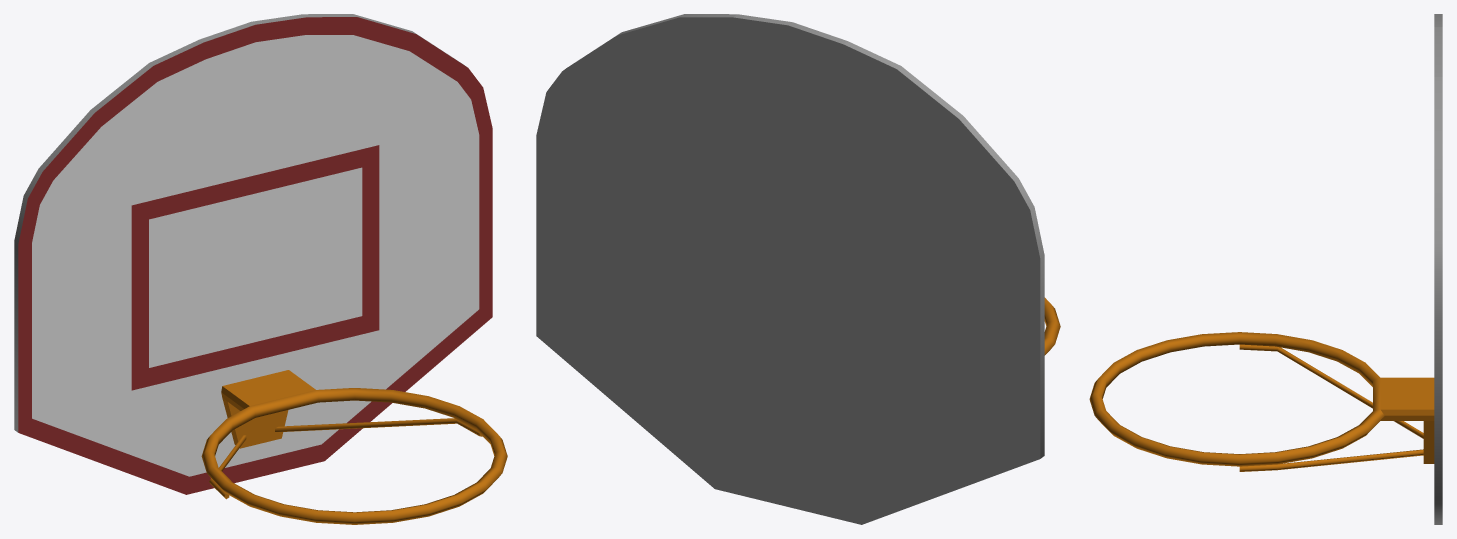
The model's file is Entity_BasketBallHoop.FBX.
The picture shows the model from 3 angles, left to right: view 1: azimuth 30°, elevation 25°; view 2: azimuth 150°, elevation 25°; view 3: azimuth 270°, elevation 25°; orthographic projection. The views are drawn at different scales.
Parts seen in each view (by area): view 1: Backboard, Hoop; view 2: Backboard, Hoop; view 3: Hoop, Backboard.
Boxes of the visible parts, x1,y1,x2,y2 form: Backboard: (14,14,492,494); Hoop: (201,370,507,524); Backboard: (536,14,1044,524); Hoop: (1044,297,1060,355); Hoop: (1089,332,1434,471); Backboard: (1434,14,1442,524).
Size of the model in its own units: 161 by 147 by 106.
